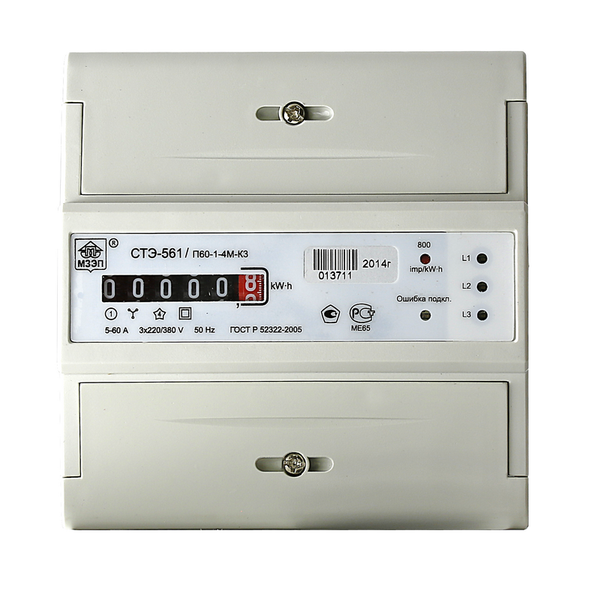counter: (58, 46, 531, 531)
counter_screen: (96, 268, 269, 307)
